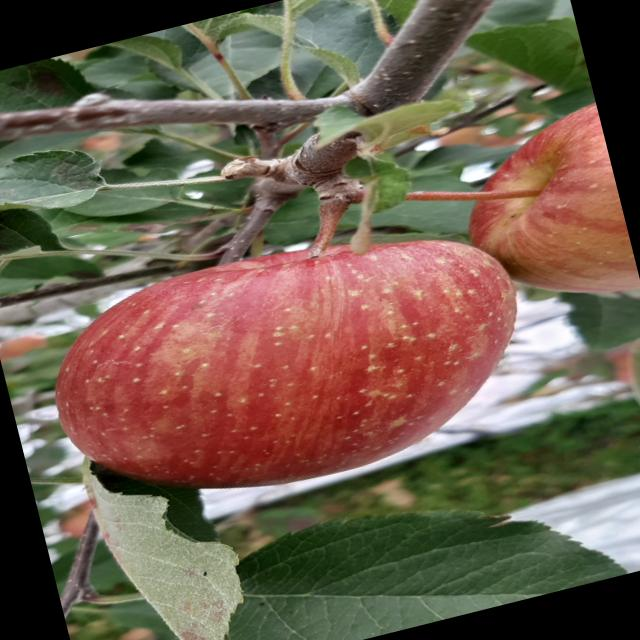fresh: (15, 185, 565, 543)
